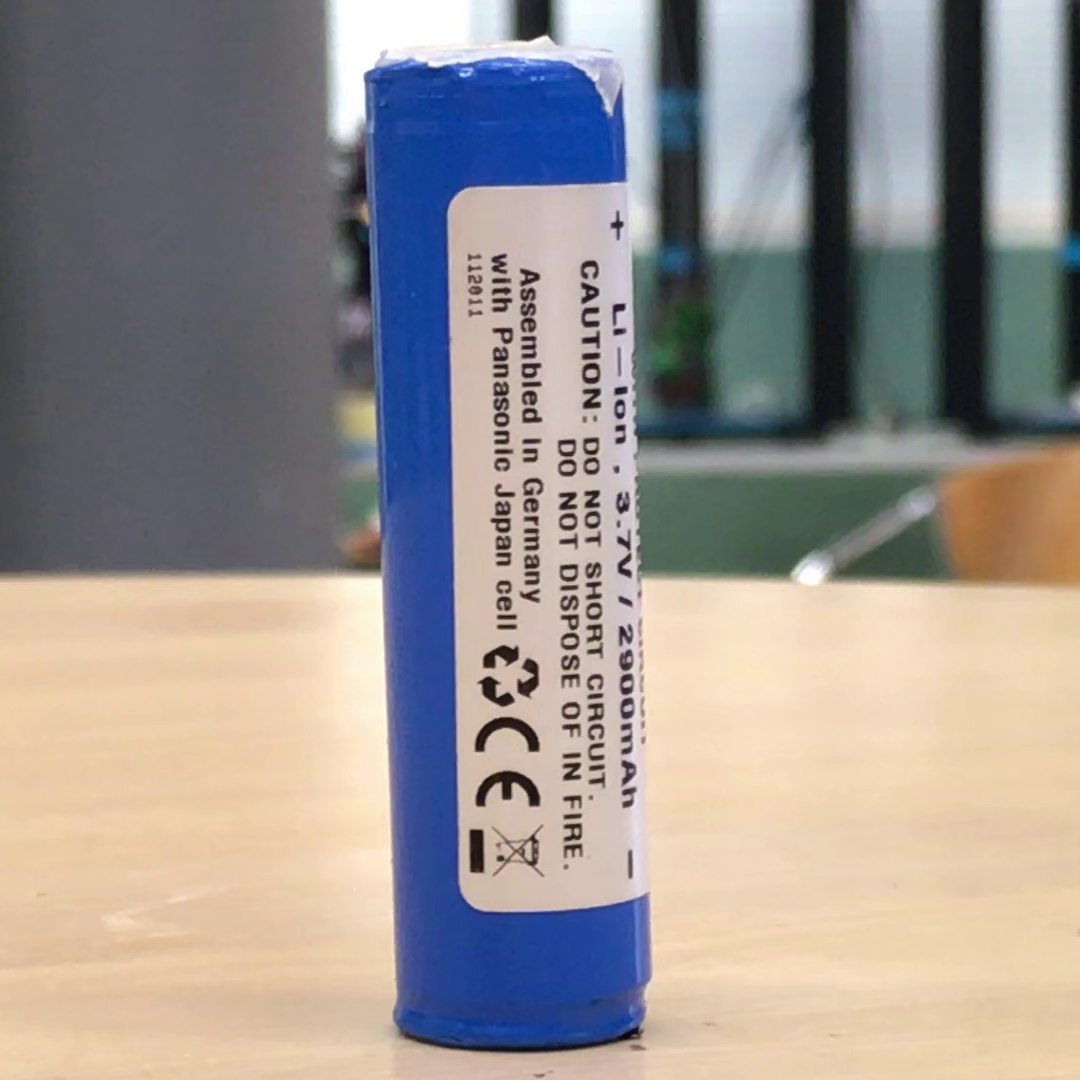keyword: (606, 482, 651, 591)
